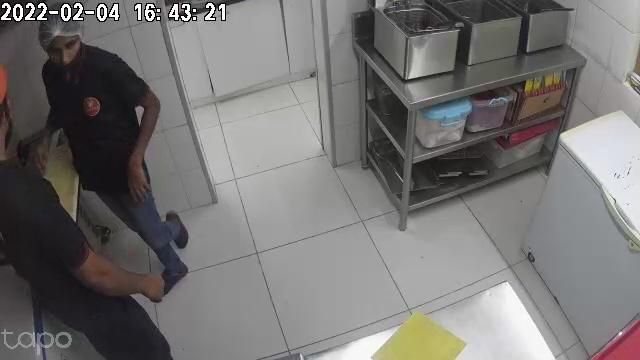no_gloves: (127, 147, 151, 202)
